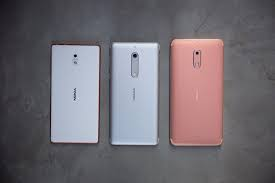nokia: (170, 33, 227, 150)
